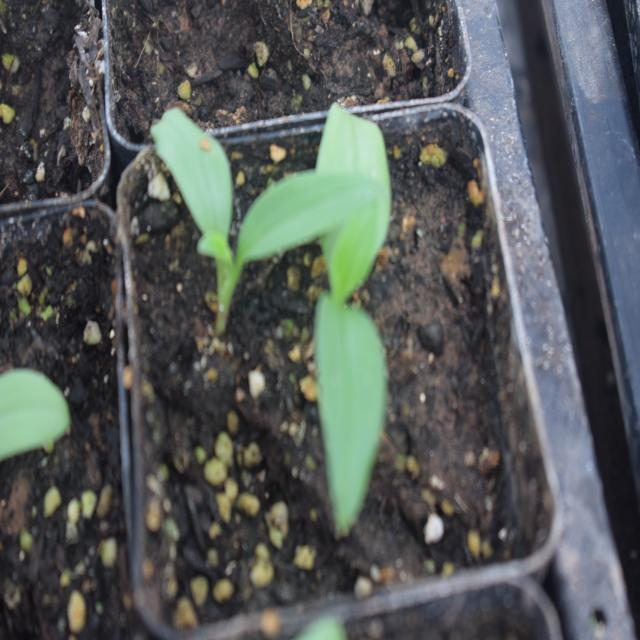Common Dayflower: (290, 119, 418, 527)
